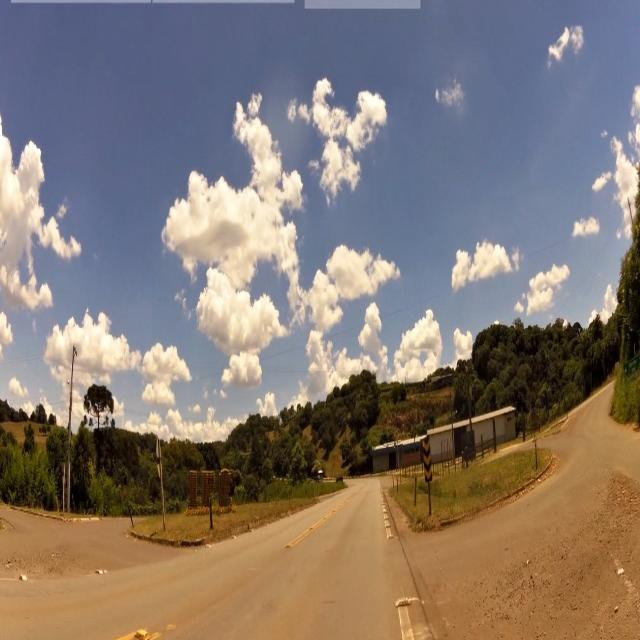MP: (422, 438, 434, 483)
